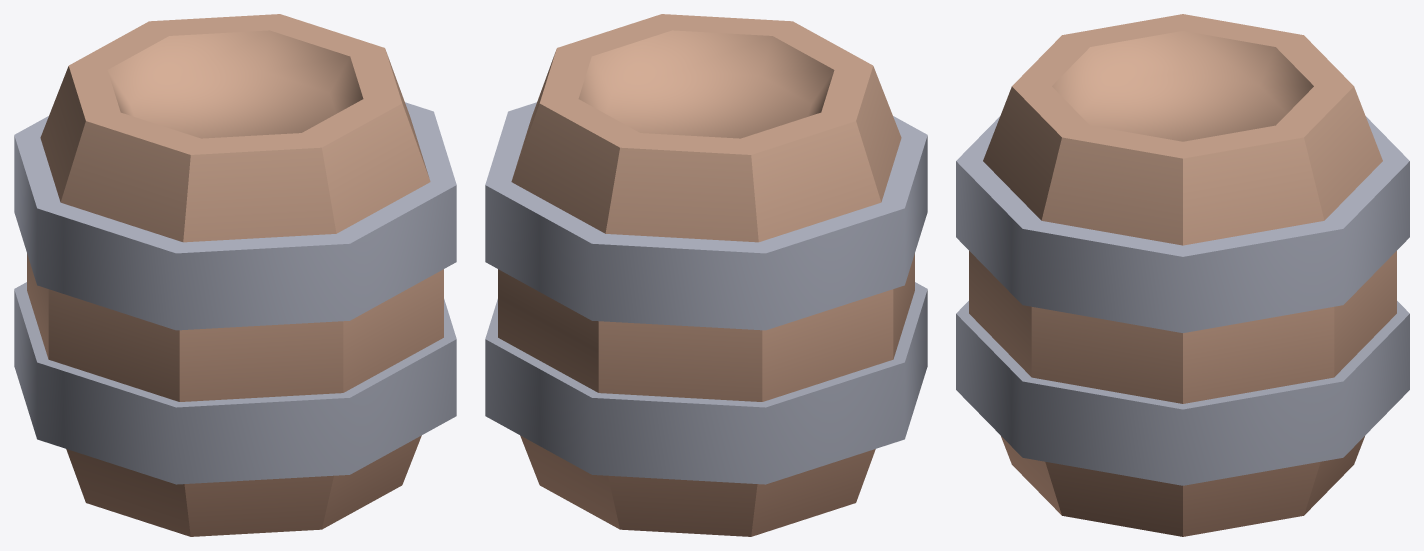
The model's file is barrel.glb.
3 renders of one model, left to right at view 1: azimuth 30°, elevation 25°; view 2: azimuth 150°, elevation 25°; view 3: azimuth 270°, elevation 25°, orthographic.
Parts seen in each view (by area): view 1: barrel; view 2: barrel; view 3: barrel.
Part boxes in pixels (left/top/right/bottom): barrel: left=14, top=14, right=456, bottom=536; barrel: left=485, top=14, right=927, bottom=536; barrel: left=956, top=14, right=1409, bottom=536.
Bounding box in the file's own units: 1.34 × 1.23 × 1.34.
